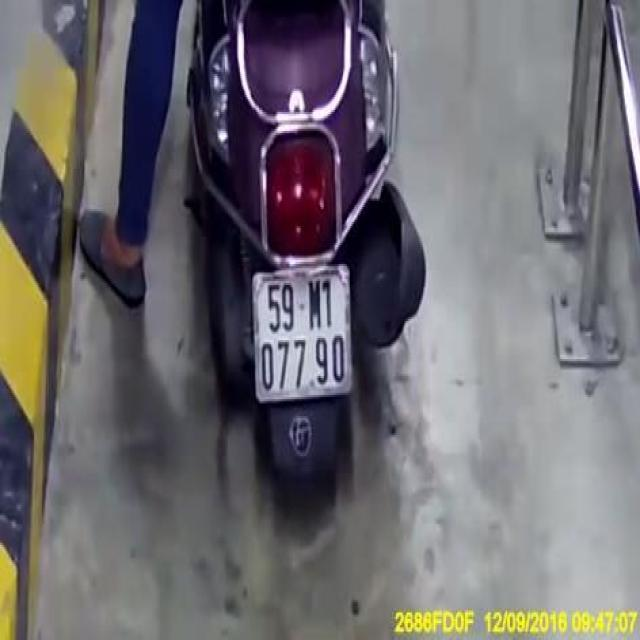bien_so: (251, 272, 354, 410)
